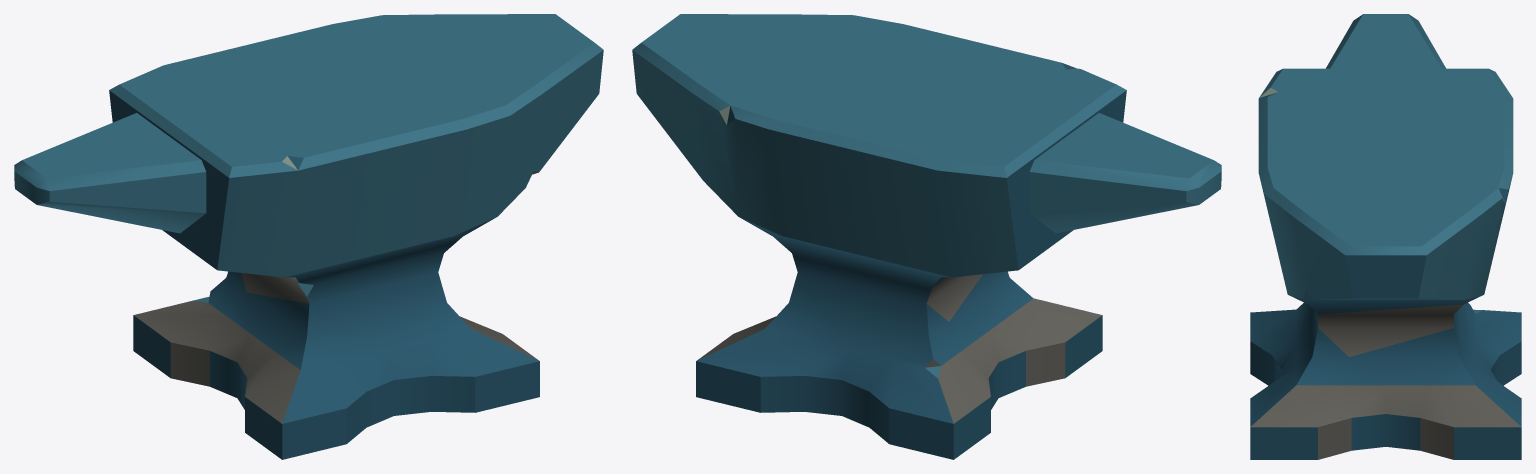
File: itch_kaykit_rpg_tools_anvil.glb
3 renders of one model, left to right at view 1: azimuth 30°, elevation 25°; view 2: azimuth 150°, elevation 25°; view 3: azimuth 270°, elevation 25°, orthographic. The views are drawn at different scales.
Parts seen in each view (by area): view 1: anvil; view 2: anvil; view 3: anvil.
Part boxes in pixels (bbox=[...]): anvil: bbox=[14, 14, 603, 459]; anvil: bbox=[632, 14, 1221, 459]; anvil: bbox=[1250, 14, 1521, 459].
Size of the model in its own units: 1.18 by 0.5837 by 0.5472.
